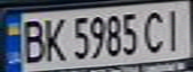5: (121, 9, 142, 56), (69, 14, 90, 61)
8: (103, 11, 124, 58)
9: (87, 12, 106, 60)
B: (15, 16, 48, 64)
C: (139, 7, 169, 55)
I: (160, 5, 193, 53)
K: (39, 15, 69, 63)
